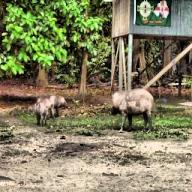boar: (110, 88, 156, 133)
